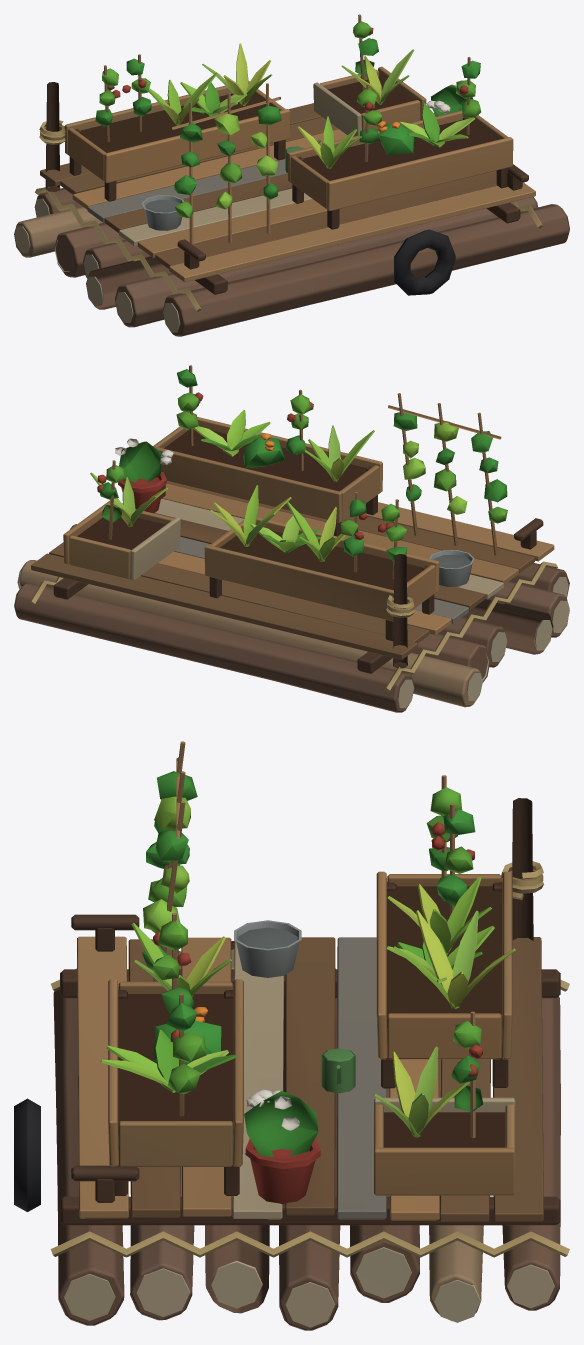
File: garden_raft.glb
3 views of the same model, one above another, from view 1: azimuth 30°, elevation 25°; view 2: azimuth 150°, elevation 25°; view 3: azimuth 270°, elevation 25° (orthographic). The views are drawn at different scales.
Parts seen in each view (by area): view 1: garden_raft; view 2: garden_raft; view 3: garden_raft.
Part boxes in pixels (x1,y1,x2,y2): garden_raft: [14, 14, 569, 336]; garden_raft: [14, 365, 569, 712]; garden_raft: [14, 741, 569, 1330].
Size of the model in its own units: 5.66 by 2.54 by 3.93.
